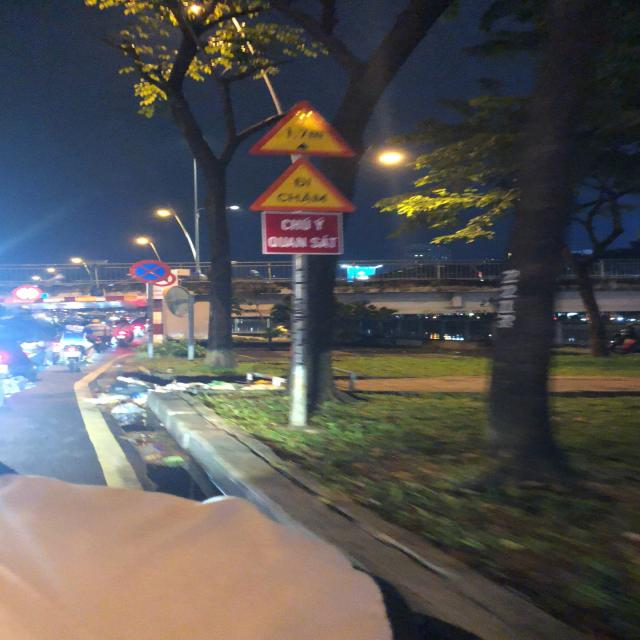Bien bao cam dung xe va do xe: (127, 258, 176, 283)
Bien bao di cham: (239, 154, 359, 210)
